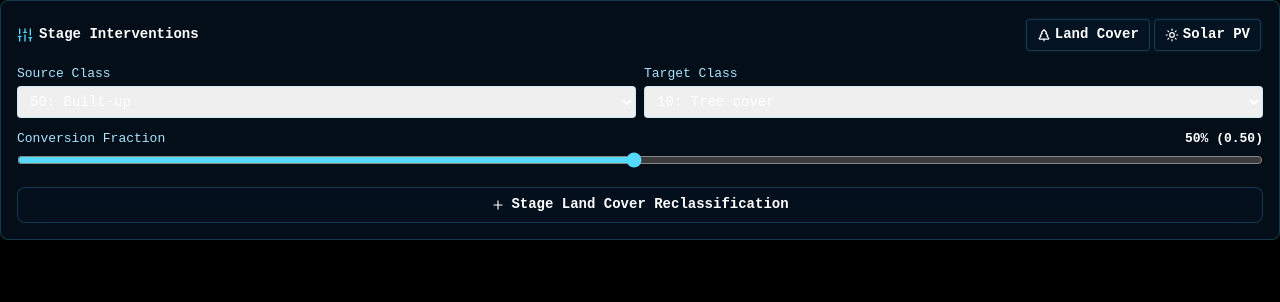
Test: Full-city exploration and bounded science › prevents staging solar and land-cover interventions outside the verified analysis area
Click the button "Stage Land Cover Reclassification".
click(640, 205)  # box [17,187,1263,223]
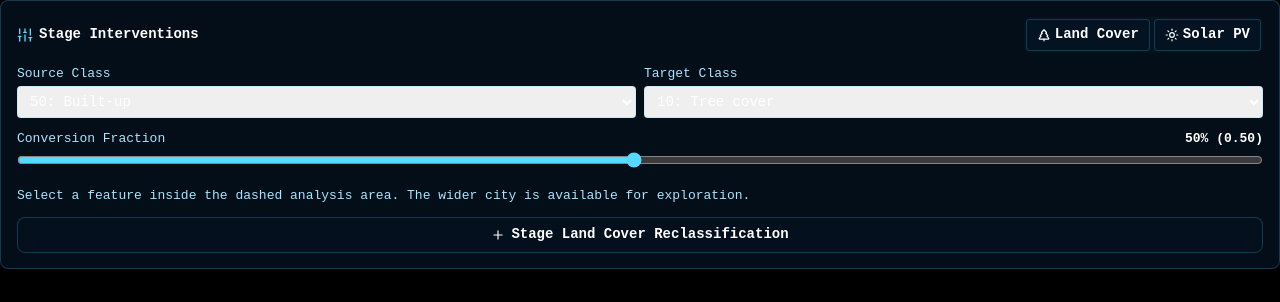
Expected: the text "Select a feature inside the dashed analysis area" is shown, [17,188,750,203]
Click the button "Solar PV".
click(1207, 35)  # box [1154,19,1261,51]
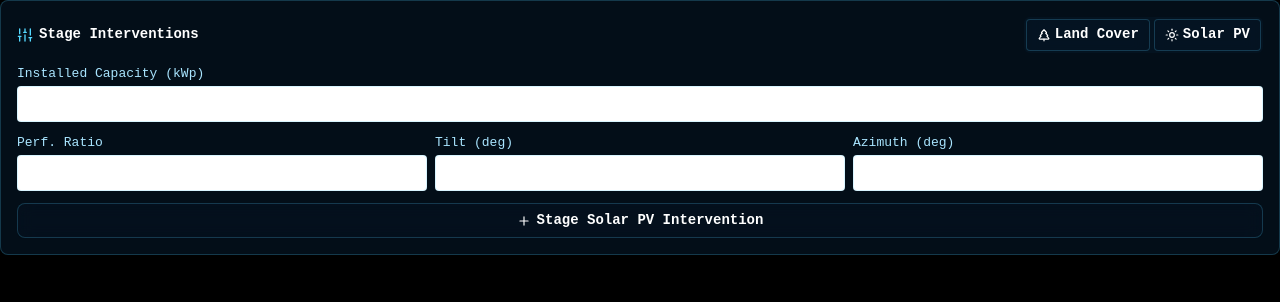
Click the button "Stage Solar PV Intervention".
click(640, 221)  # box [17,203,1263,238]
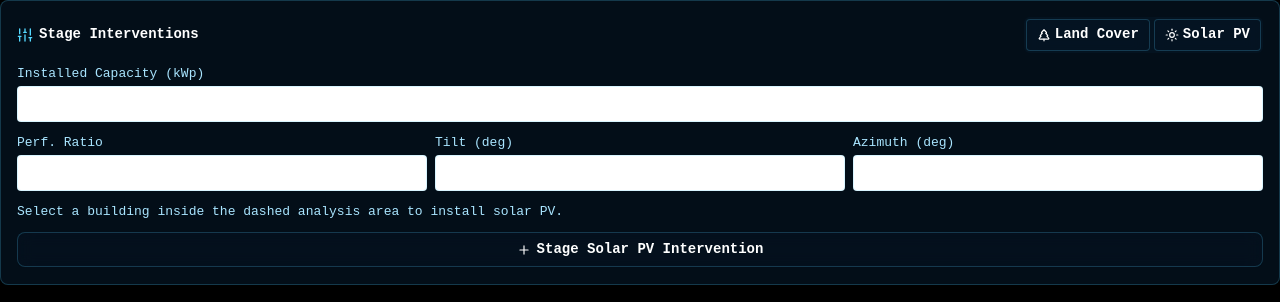
Expected: the text "Select a building inside the dashed analysis area" is shown, [17,204,563,219]
